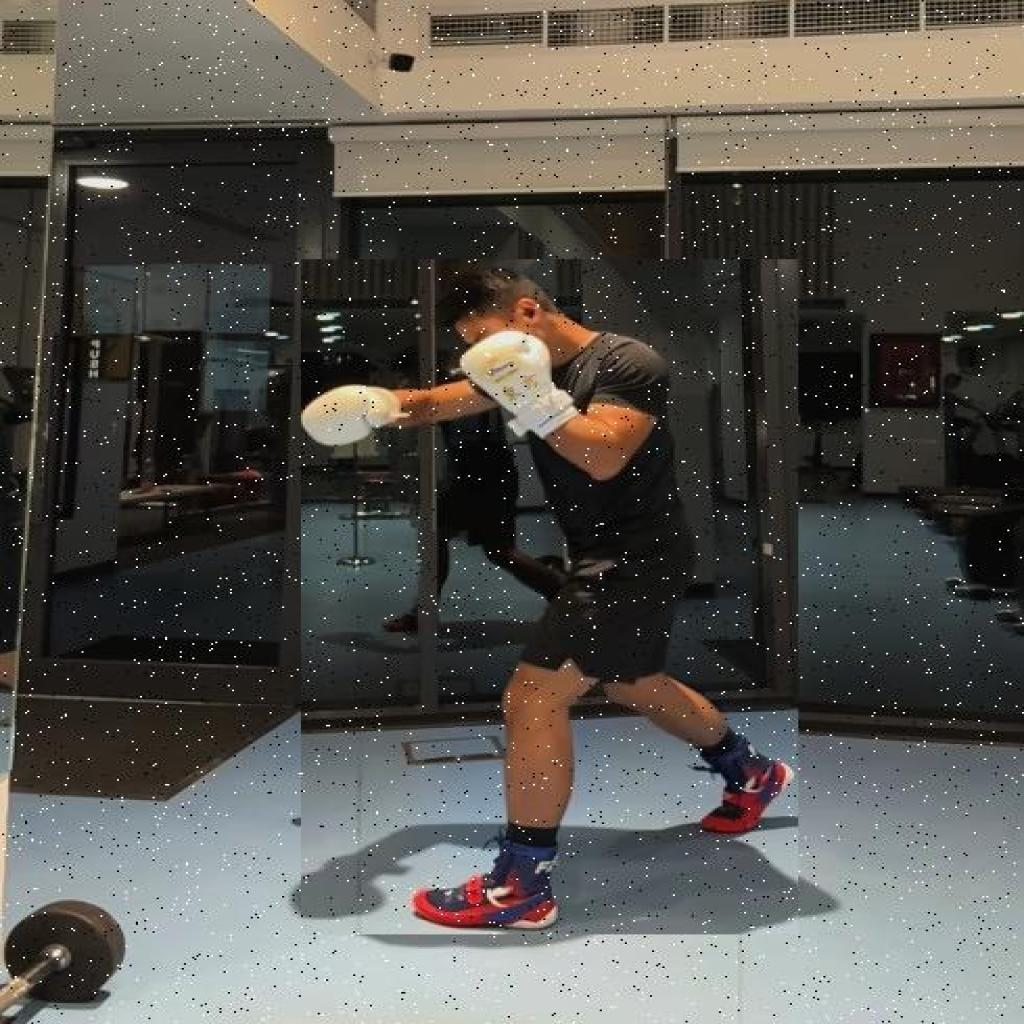hook: (301, 259, 797, 935)
